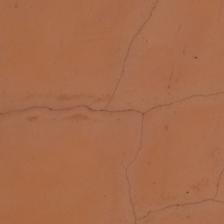Crack: (7, 0, 118, 109), (56, 41, 168, 120), (11, 48, 64, 157), (177, 39, 224, 76)
